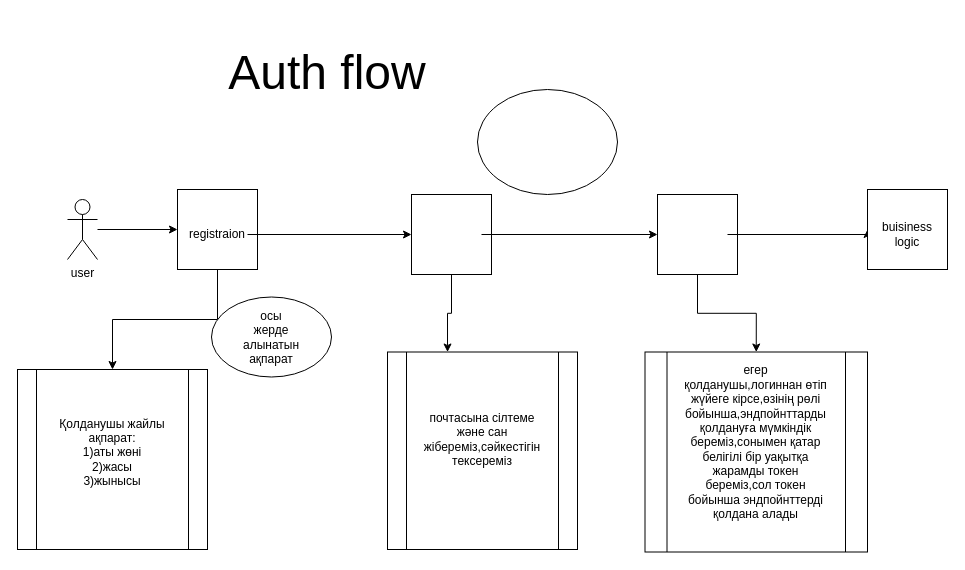
The diagram is 965 pixels wide and 570 high, and some of its shapes have lost their labels. The shapes that lost their labels are listed below. From the top down, each one's centre as x and y in pixels, then its label:
At [547,141]: "email верификация өткен соң, юзерді логин пейджге жібереміз".
At [451,234]: "email-verification".
At [697,234]: "login".
